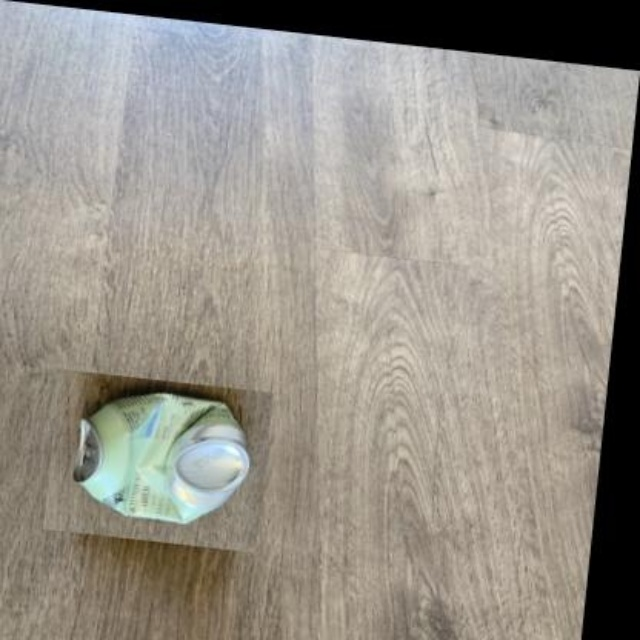trash: (74, 394, 248, 522)
